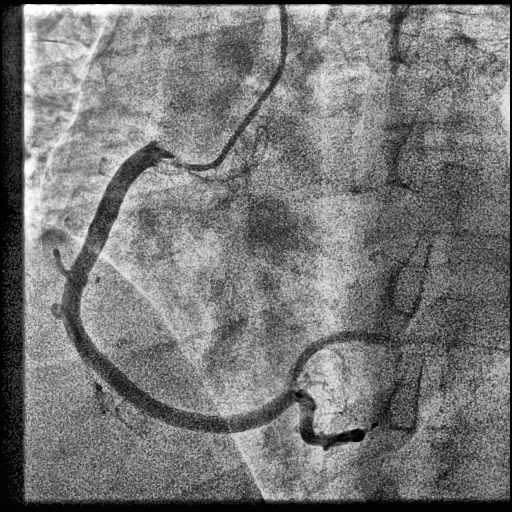pborca: (285, 331, 391, 388)
pda: (298, 389, 364, 447)
rca: (61, 143, 300, 435)
